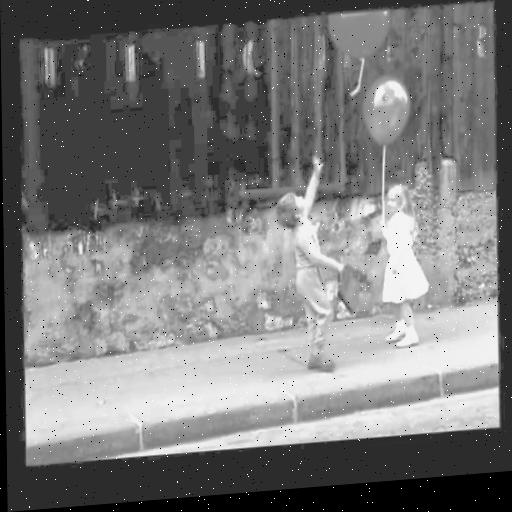balloon: (363, 72, 411, 148), (327, 7, 392, 62)
